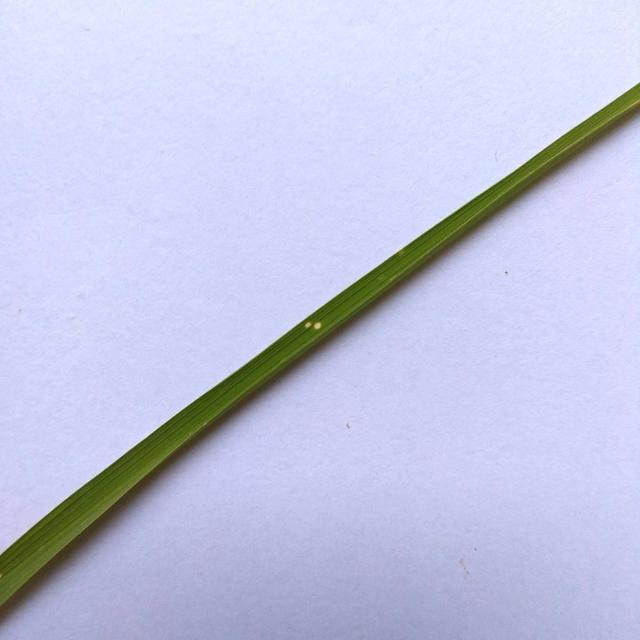Leaf blast: (0, 80, 640, 612)
